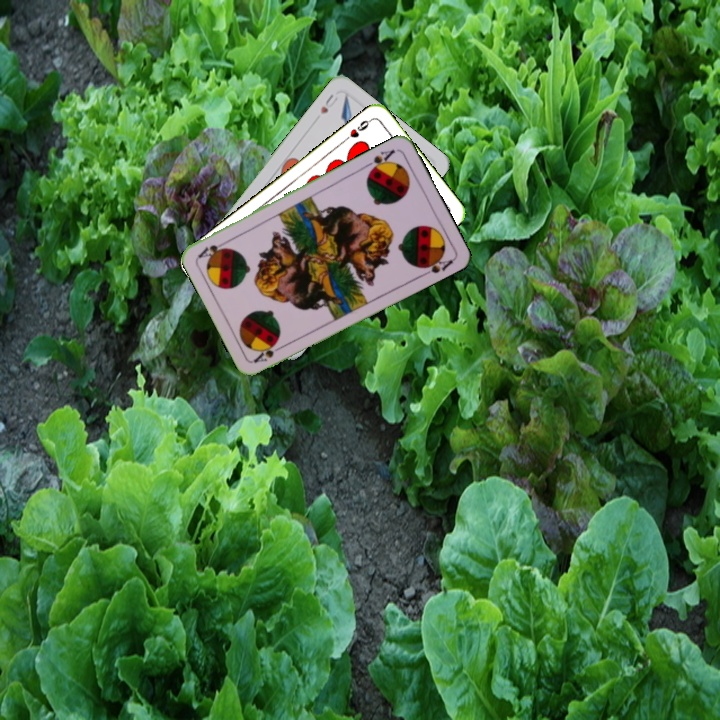H9: (340, 115, 375, 144)
HU: (316, 90, 340, 117)
SA: (361, 145, 397, 176), (250, 338, 288, 365)
